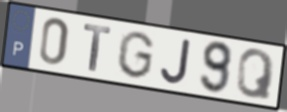0: (37, 16, 71, 69)
9: (198, 39, 234, 96)
G: (114, 29, 156, 80)
J: (159, 37, 193, 86)
Q: (235, 47, 277, 102)
T: (82, 22, 113, 74)
